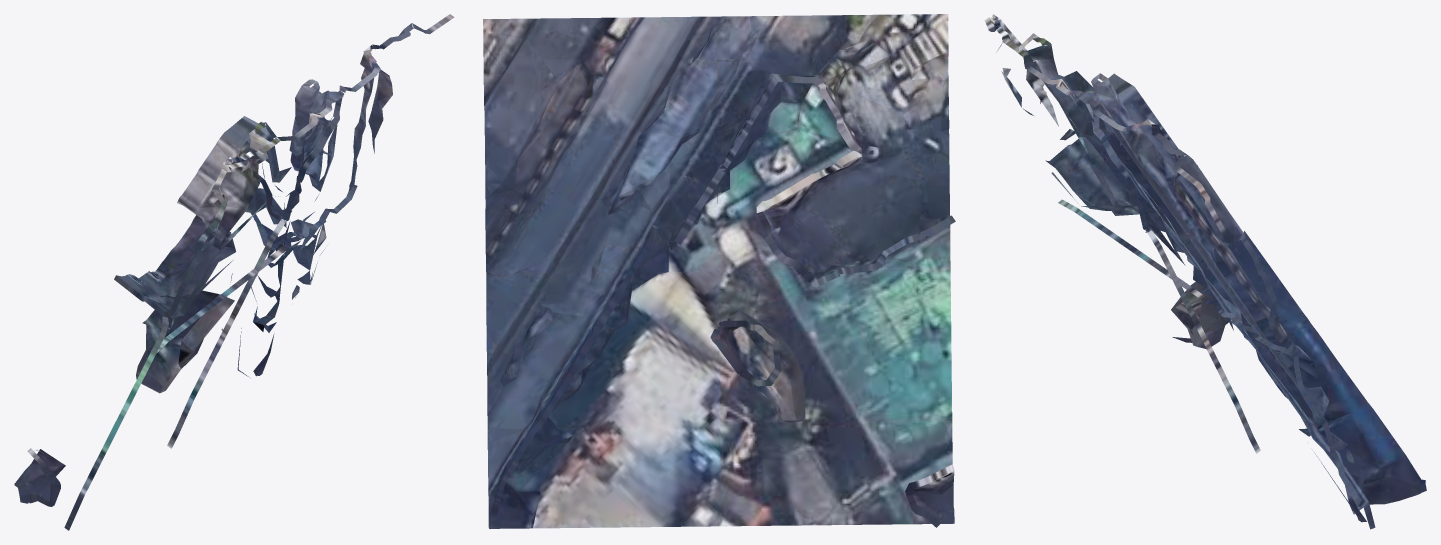
3 renders of one model, left to right at view 1: azimuth 30°, elevation 25°; view 2: azimuth 150°, elevation 25°; view 3: azimuth 270°, elevation 25°, orthographic. The views are drawn at different scales.
Bounding box in the file's own units: 40.32 × 35.92 × 35.44.
2 materials, 2 textured.
